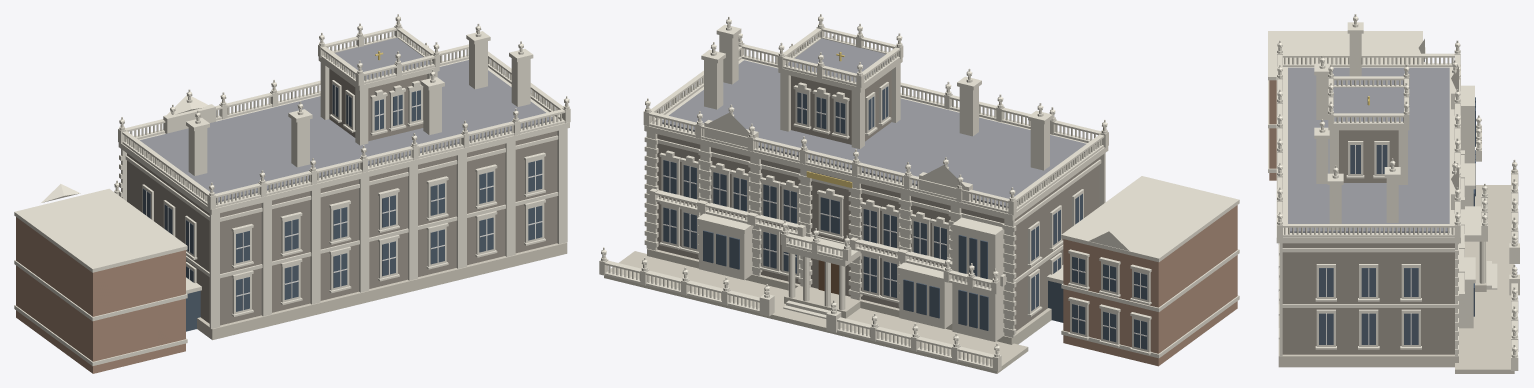
Rendered from spurgeons-college.glb.
3 renders of one model, left to right at view 1: azimuth 30°, elevation 25°; view 2: azimuth 150°, elevation 25°; view 3: azimuth 270°, elevation 25°, orthographic. The views are drawn at different scales.
Visible parts, largest first — view 1: Spurgeons · Cream stone, Spurgeons · Dark rendered panels, Spurgeons · Lead flat roof, Spurgeons · Annex brick, Spurgeons · Window glass, Spurgeons · Shaded stone, Spurgeons · White sash frames; view 2: Spurgeons · Cream stone, Spurgeons · Lead flat roof, Spurgeons · Window glass, Spurgeons · Annex brick, Spurgeons · Dark rendered panels, Spurgeons · Shaded stone, Spurgeons · White sash frames; view 3: Spurgeons · Cream stone, Spurgeons · Lead flat roof, Spurgeons · Dark rendered panels, Spurgeons · Shaded stone, Spurgeons · Window glass, Spurgeons · Annex brick, Spurgeons · White sash frames.
Part boxes in pixels (left/top/right/bottom): Spurgeons · Cream stone: left=14, top=14, right=570, bottom=366; Spurgeons · Dark rendered panels: left=127, top=68, right=557, bottom=325; Spurgeons · Lead flat roof: left=139, top=38, right=552, bottom=202; Spurgeons · Annex brick: left=16, top=217, right=185, bottom=373; Spurgeons · Window glass: left=143, top=84, right=542, bottom=331; Spurgeons · Shaded stone: left=197, top=242, right=567, bottom=340; Spurgeons · White sash frames: left=146, top=86, right=542, bottom=310; Spurgeons · Cream stone: left=599, top=14, right=1239, bottom=371; Spurgeons · Lead flat roof: left=662, top=38, right=1086, bottom=207; Spurgeons · Window glass: left=663, top=86, right=1147, bottom=349; Spurgeons · Annex brick: left=1063, top=205, right=1237, bottom=366; Spurgeons · Dark rendered panels: left=657, top=70, right=1099, bottom=330; Spurgeons · Shaded stone: left=604, top=249, right=1051, bottom=373; Spurgeons · White sash frames: left=663, top=88, right=1146, bottom=348; Spurgeons · Cream stone: left=1268, top=14, right=1519, bottom=370; Spurgeons · Lead flat roof: left=1288, top=67, right=1449, bottom=232; Spurgeons · Dark rendered panels: left=1282, top=130, right=1454, bottom=354; Spurgeons · Shaded stone: left=1278, top=185, right=1514, bottom=373; Spurgeons · Window glass: left=1319, top=60, right=1475, bottom=344; Spurgeons · Annex brick: left=1269, top=80, right=1276, bottom=180; Spurgeons · White sash frames: left=1326, top=61, right=1424, bottom=345.
Bounding box in the file's own units: 42.82 × 17.93 × 19.
